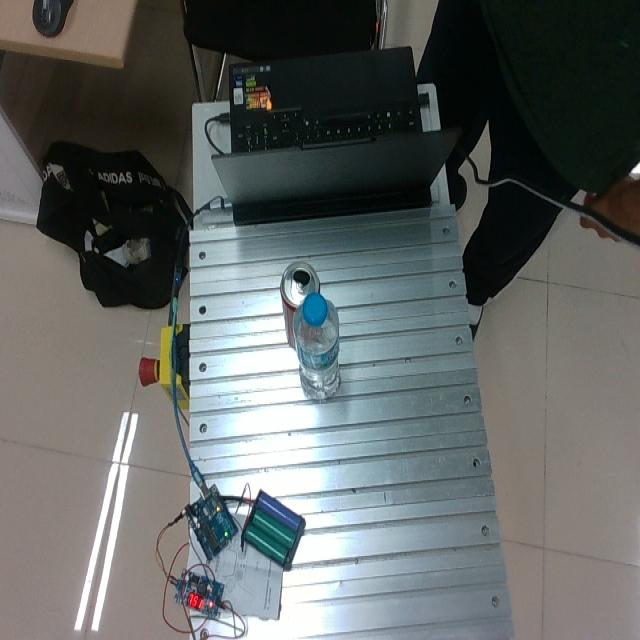coca: (279, 259, 320, 353)
lavie: (292, 291, 341, 400)
